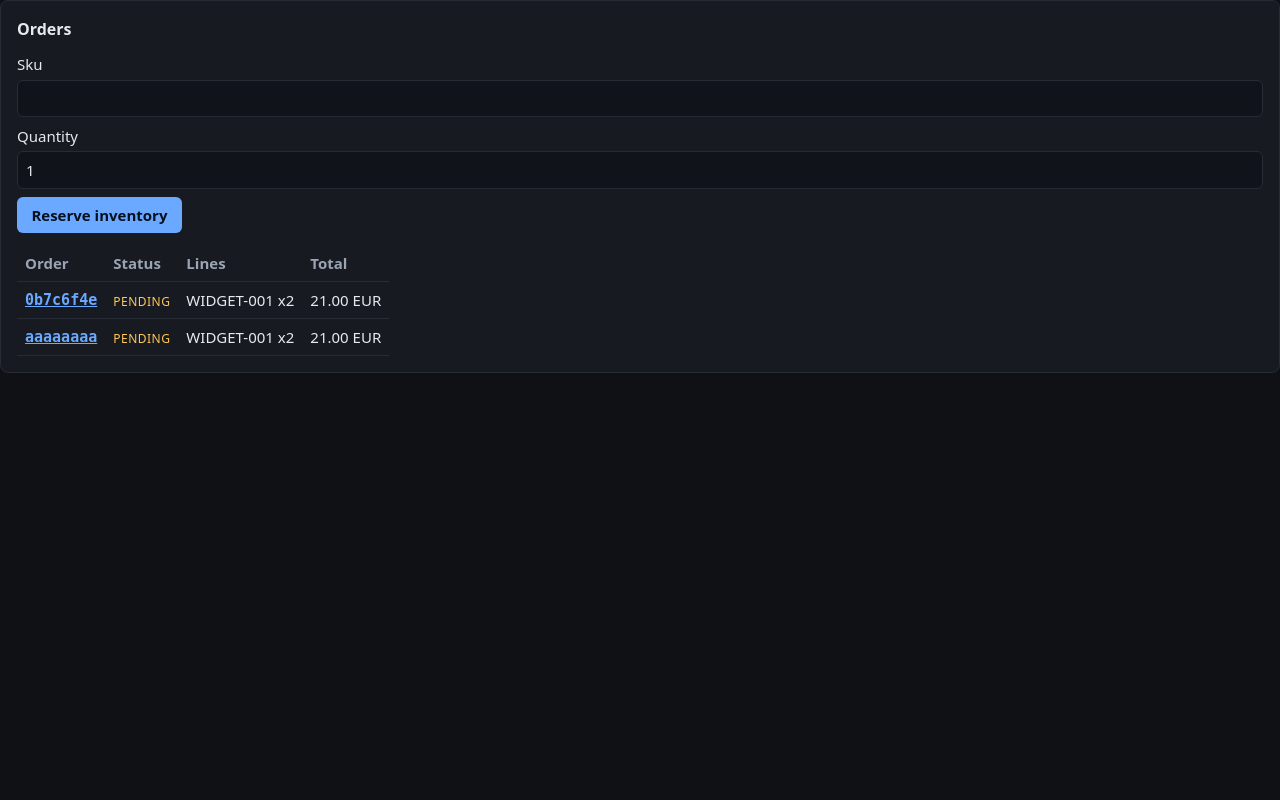
Test: OrdersPanel when a refresh fails › opens the detail of the order whose identifier is activated
The image size is (1280, 800).
Step 1. Click the button "aaaaaaaa" → [61, 337], box [25,325,97,349]
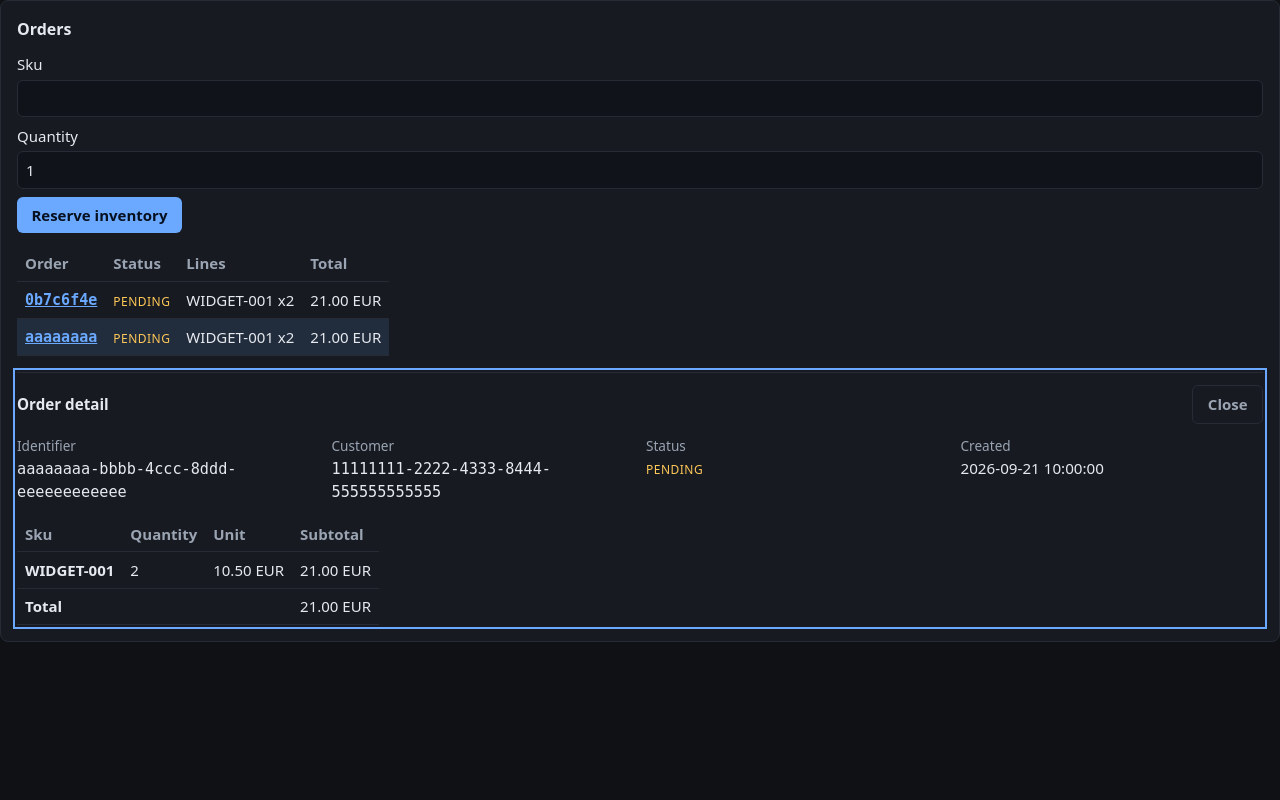
Check: the text "aaaaaaaa-bbbb-4ccc-8ddd-eeeeeeeeeeee" is shown, box [17,460,236,501]
